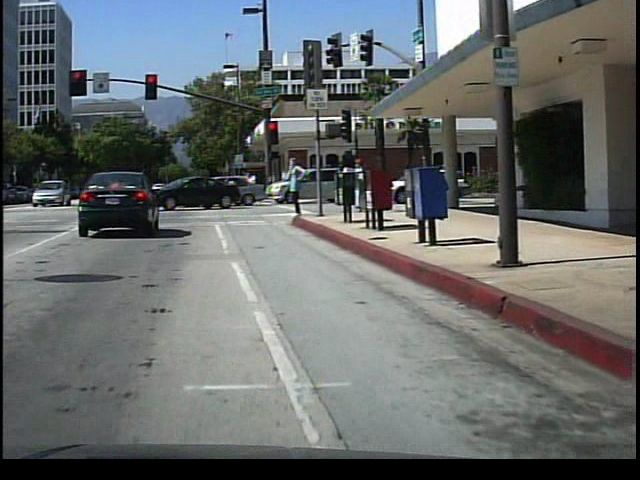person: (286, 152, 313, 219), (335, 153, 355, 213), (351, 153, 369, 213)
